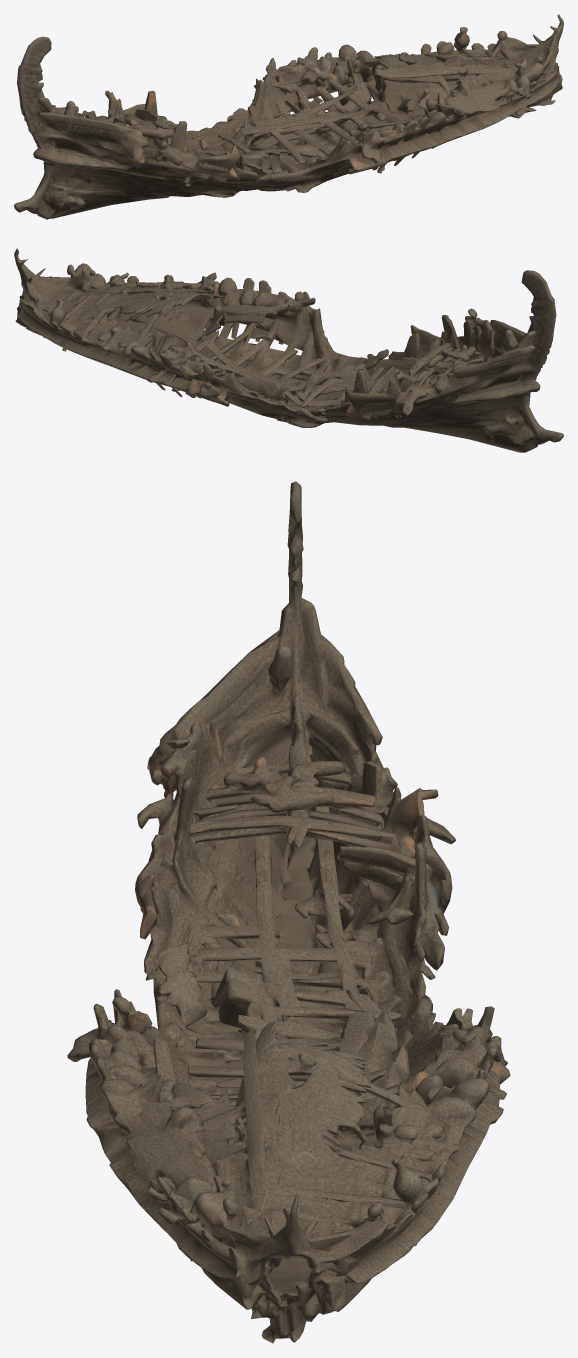
File: relitto.glb
3 renders of one model, top to bottom at view 1: azimuth 30°, elevation 25°; view 2: azimuth 150°, elevation 25°; view 3: azimuth 270°, elevation 25°, orthographic. The views are drawn at different scales.
Parts seen in each view (by area): view 1: Mesh_0; view 2: Mesh_0; view 3: Mesh_0.
Part boxes in pixels (x1,y1,x2,y2): Mesh_0: (14,14,563,219); Mesh_0: (14,248,563,452); Mesh_0: (67,481,510,1343).
Size of the model in its own units: 1.88 by 0.6023 by 0.6616.
1 material, 1 textured.
